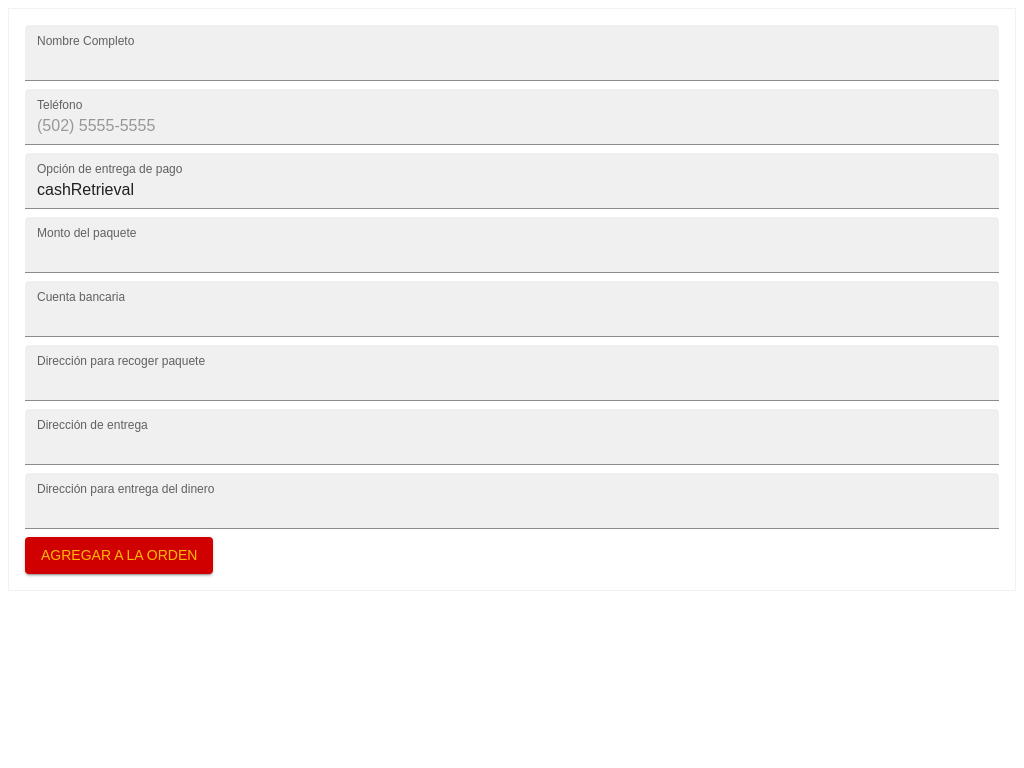
Scenario: presentation:components:organisms:package-form:control › It should fill the [Amount] field
Type "10.00" into the field labelled "Monto del paquete".
click(512, 245); type("10.00")  # box [25,217,999,273]
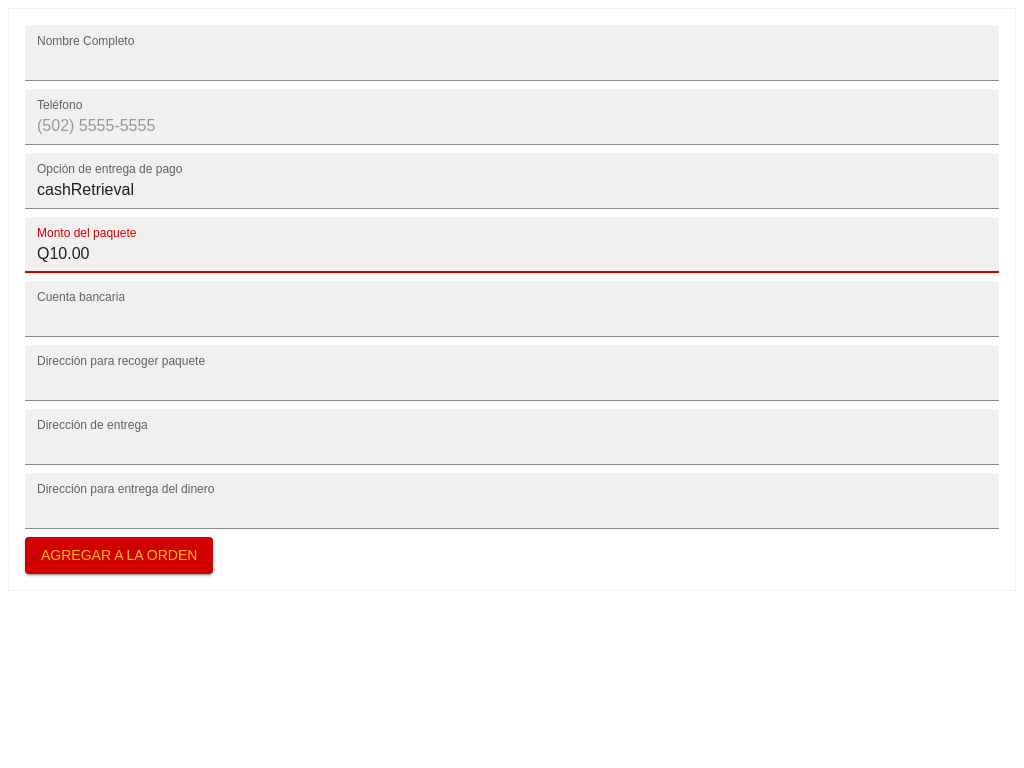
Expected: the field labelled "Monto del paquete" holds "Q10.00", [25,217,999,273]
